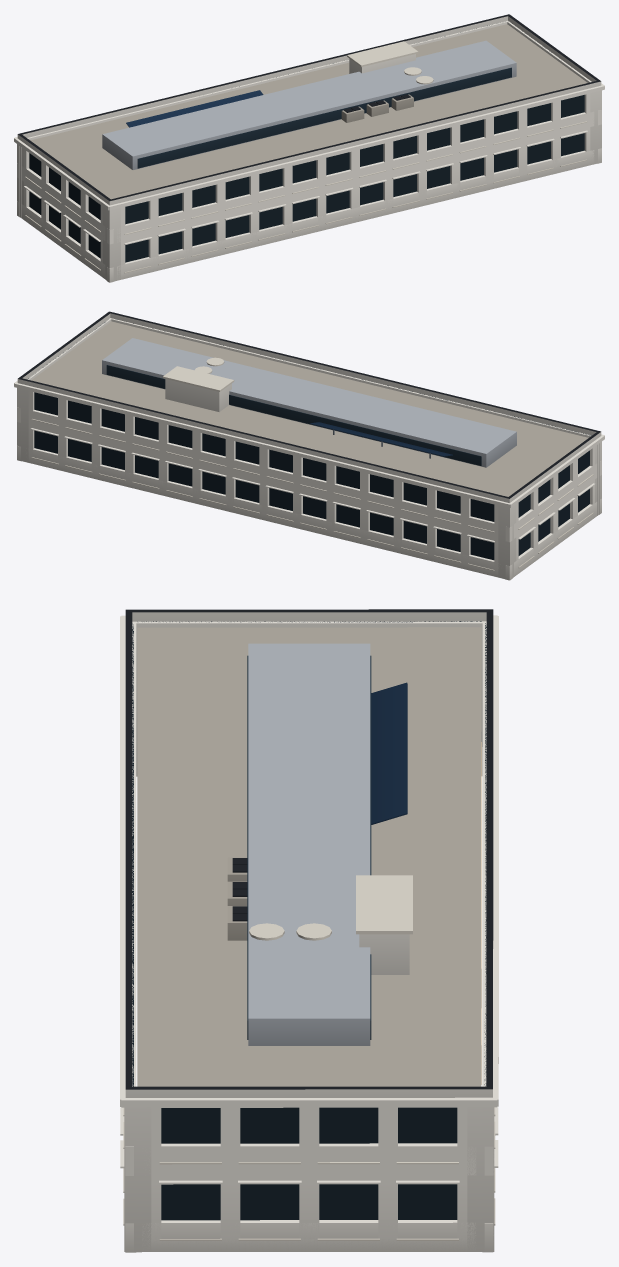
Rendered from mech_labs.glb.
The picture shows the model from 3 angles, top to bottom: view 1: azimuth 30°, elevation 25°; view 2: azimuth 150°, elevation 25°; view 3: azimuth 270°, elevation 25°; orthographic projection. The views are drawn at different scales.
Visible parts, largest first — view 1: LOD0_High_StuccoWhite, LOD0_High_RoofSlabConcrete, LOD1_Medium_StuccoWhite, LOD1_Medium_RecessedCavityGlass, LOD0_High_SteelVaultRoof, LOD0_High_CurtainGlass, LOD0_High_DarkAnodizedSteel, LOD0_High_StuccoWarmTrim, LOD0_High_SolarPV; view 2: LOD0_High_StuccoWhite, LOD0_High_RoofSlabConcrete, LOD1_Medium_RecessedCavityGlass, LOD0_High_SteelVaultRoof, LOD1_Medium_StuccoWhite, LOD0_High_DarkAnodizedSteel, LOD0_High_StuccoWarmTrim, LOD0_High_CurtainGlass, LOD0_High_SolarPV; view 3: LOD0_High_RoofSlabConcrete, LOD0_High_StuccoWhite, LOD0_High_SteelVaultRoof, LOD1_Medium_StuccoWhite, LOD1_Medium_RecessedCavityGlass, LOD0_High_DarkAnodizedSteel, LOD0_High_StuccoWarmTrim, LOD0_High_SolarPV, LOD0_High_CurtainGlass.
Boxes of the visible parts, x1,y1,x2,y2 form: LOD0_High_StuccoWhite: [14, 16, 604, 282]; LOD0_High_RoofSlabConcrete: [30, 24, 587, 199]; LOD1_Medium_StuccoWhite: [17, 21, 601, 282]; LOD1_Medium_RecessedCavityGlass: [29, 25, 584, 262]; LOD0_High_SteelVaultRoof: [102, 40, 516, 169]; LOD0_High_CurtainGlass: [137, 67, 511, 168]; LOD0_High_DarkAnodizedSteel: [18, 14, 600, 201]; LOD0_High_StuccoWarmTrim: [25, 41, 587, 273]; LOD0_High_SolarPV: [126, 90, 263, 127]; LOD0_High_StuccoWhite: [14, 313, 604, 579]; LOD0_High_RoofSlabConcrete: [31, 321, 588, 496]; LOD1_Medium_RecessedCavityGlass: [27, 322, 591, 560]; LOD0_High_SteelVaultRoof: [102, 338, 516, 467]; LOD1_Medium_StuccoWhite: [17, 318, 601, 580]; LOD0_High_DarkAnodizedSteel: [18, 311, 600, 498]; LOD0_High_StuccoWarmTrim: [31, 357, 593, 570]; LOD0_High_CurtainGlass: [106, 365, 481, 465]; LOD0_High_SolarPV: [310, 422, 452, 456]; LOD0_High_RoofSlabConcrete: [137, 627, 481, 1086]; LOD0_High_StuccoWhite: [120, 612, 498, 1252]; LOD0_High_SteelVaultRoof: [248, 643, 370, 1045]; LOD1_Medium_StuccoWhite: [125, 621, 494, 1252]; LOD1_Medium_RecessedCavityGlass: [132, 621, 486, 1220]; LOD0_High_DarkAnodizedSteel: [125, 609, 493, 1089]; LOD0_High_StuccoWarmTrim: [123, 875, 495, 1240]; LOD0_High_SolarPV: [371, 682, 407, 824]; LOD0_High_CurtainGlass: [247, 655, 371, 1039].
Size of the model in its own units: 67.9 by 12.97 by 22.44.
